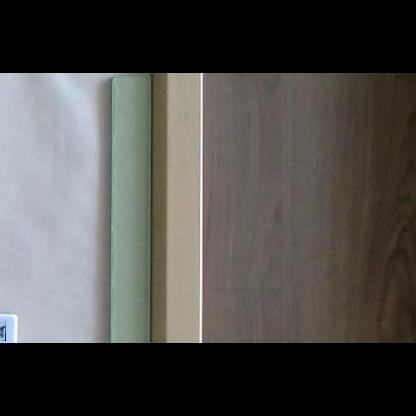6z: (0, 319, 6, 341)
